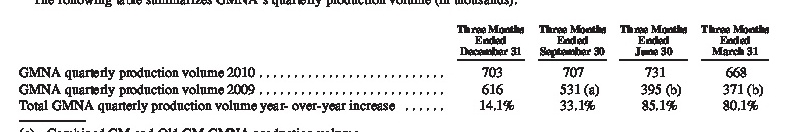table: (0, 0, 786, 132)
